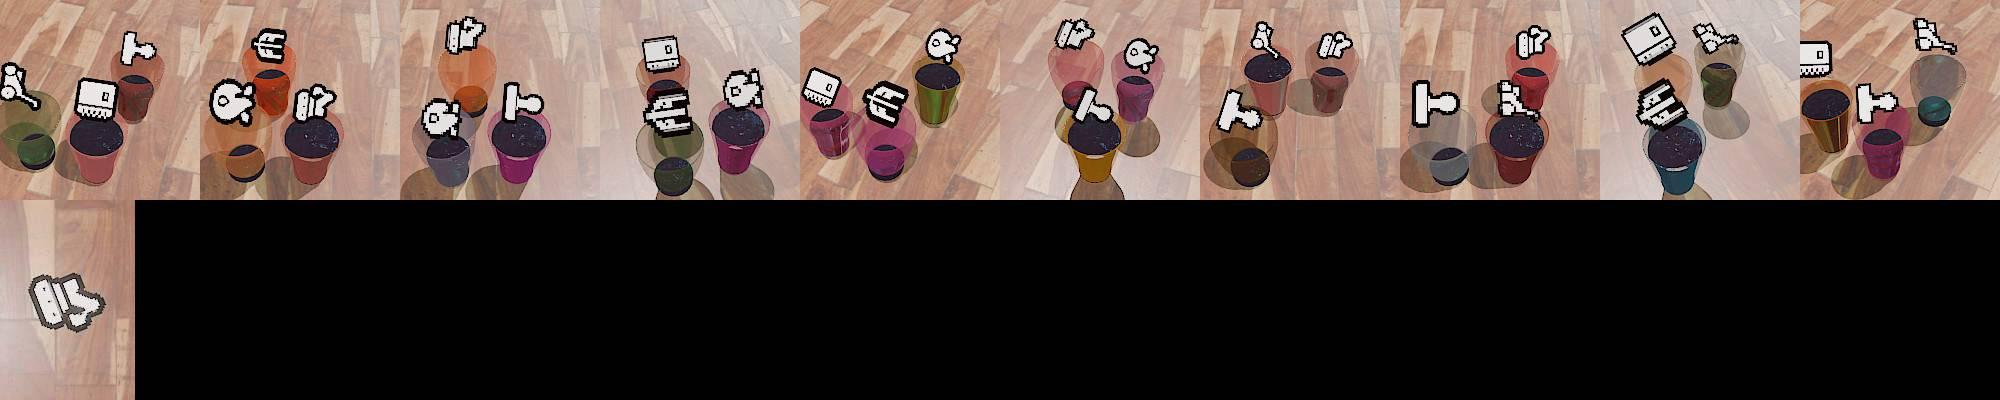icon: (28, 273, 105, 332), (1620, 13, 1677, 68), (1635, 78, 1687, 130), (644, 84, 696, 135), (1411, 78, 1462, 127), (209, 76, 258, 126), (862, 79, 908, 126), (0, 64, 45, 112), (1217, 88, 1264, 132), (420, 96, 466, 140), (500, 80, 545, 125), (74, 76, 120, 118), (1855, 83, 1902, 124), (722, 66, 764, 110), (802, 66, 843, 110), (1070, 85, 1115, 125), (1913, 17, 1958, 56), (1495, 78, 1536, 120), (444, 15, 486, 56), (295, 82, 338, 121), (640, 34, 682, 73), (1691, 23, 1740, 55), (1122, 37, 1161, 74), (120, 29, 157, 66), (1798, 41, 1833, 80), (925, 27, 962, 62), (1054, 18, 1093, 51), (1515, 24, 1551, 60), (251, 27, 287, 62), (1316, 29, 1353, 60), (1249, 20, 1279, 55)
